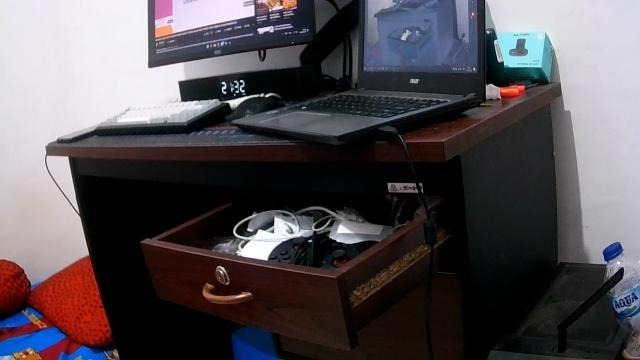AIO PC-Monitor-TV: (145, 0, 317, 67)
Meja: (43, 79, 561, 359)
